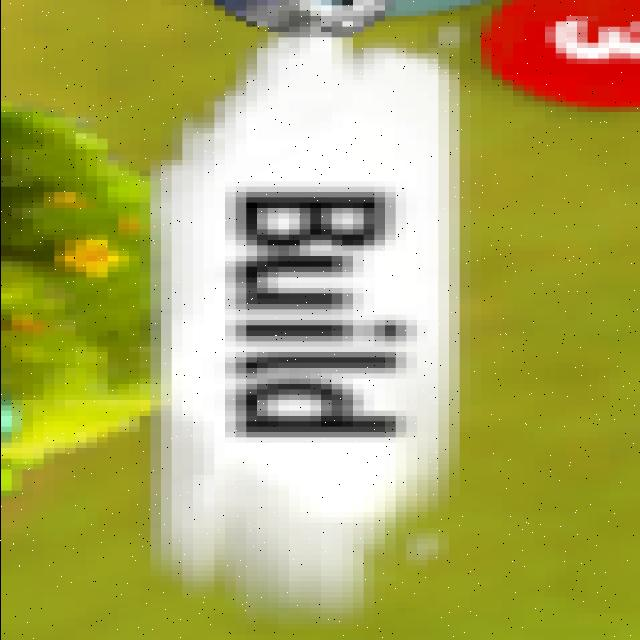build: (201, 175, 433, 454)
